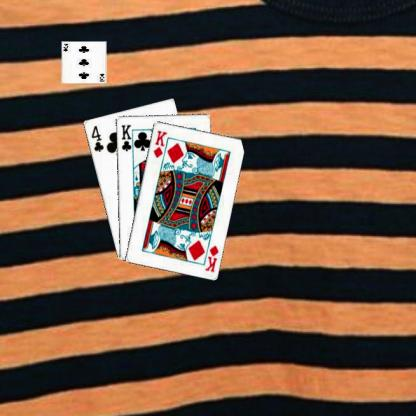4C: (88, 123, 105, 153)
KC: (118, 122, 135, 155)
KD: (150, 127, 168, 159), (202, 242, 220, 273)
